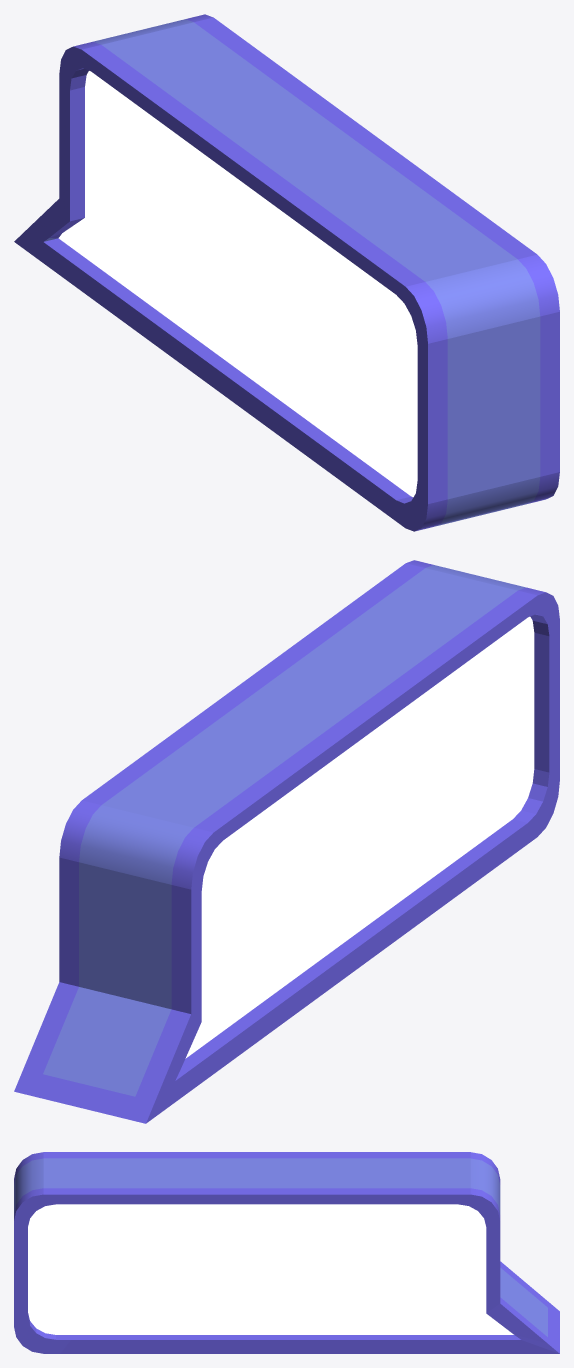
File: chat.glb
3 renders of one model, top to bottom at view 1: azimuth 30°, elevation 25°; view 2: azimuth 150°, elevation 25°; view 3: azimuth 270°, elevation 25°, orthographic. The views are drawn at different scales.
Visible parts, largest first — view 1: Plane; view 2: Plane; view 3: Plane.
Part boxes in pixels (x1=…): Plane: x1=14, y1=14, x2=559, y2=531; Plane: x1=14, y1=560, x2=559, y2=1123; Plane: x1=14, y1=1152, x2=559, y2=1353.
Bounding box in the file's own units: 0.8936 × 1.56 × 4.83.
